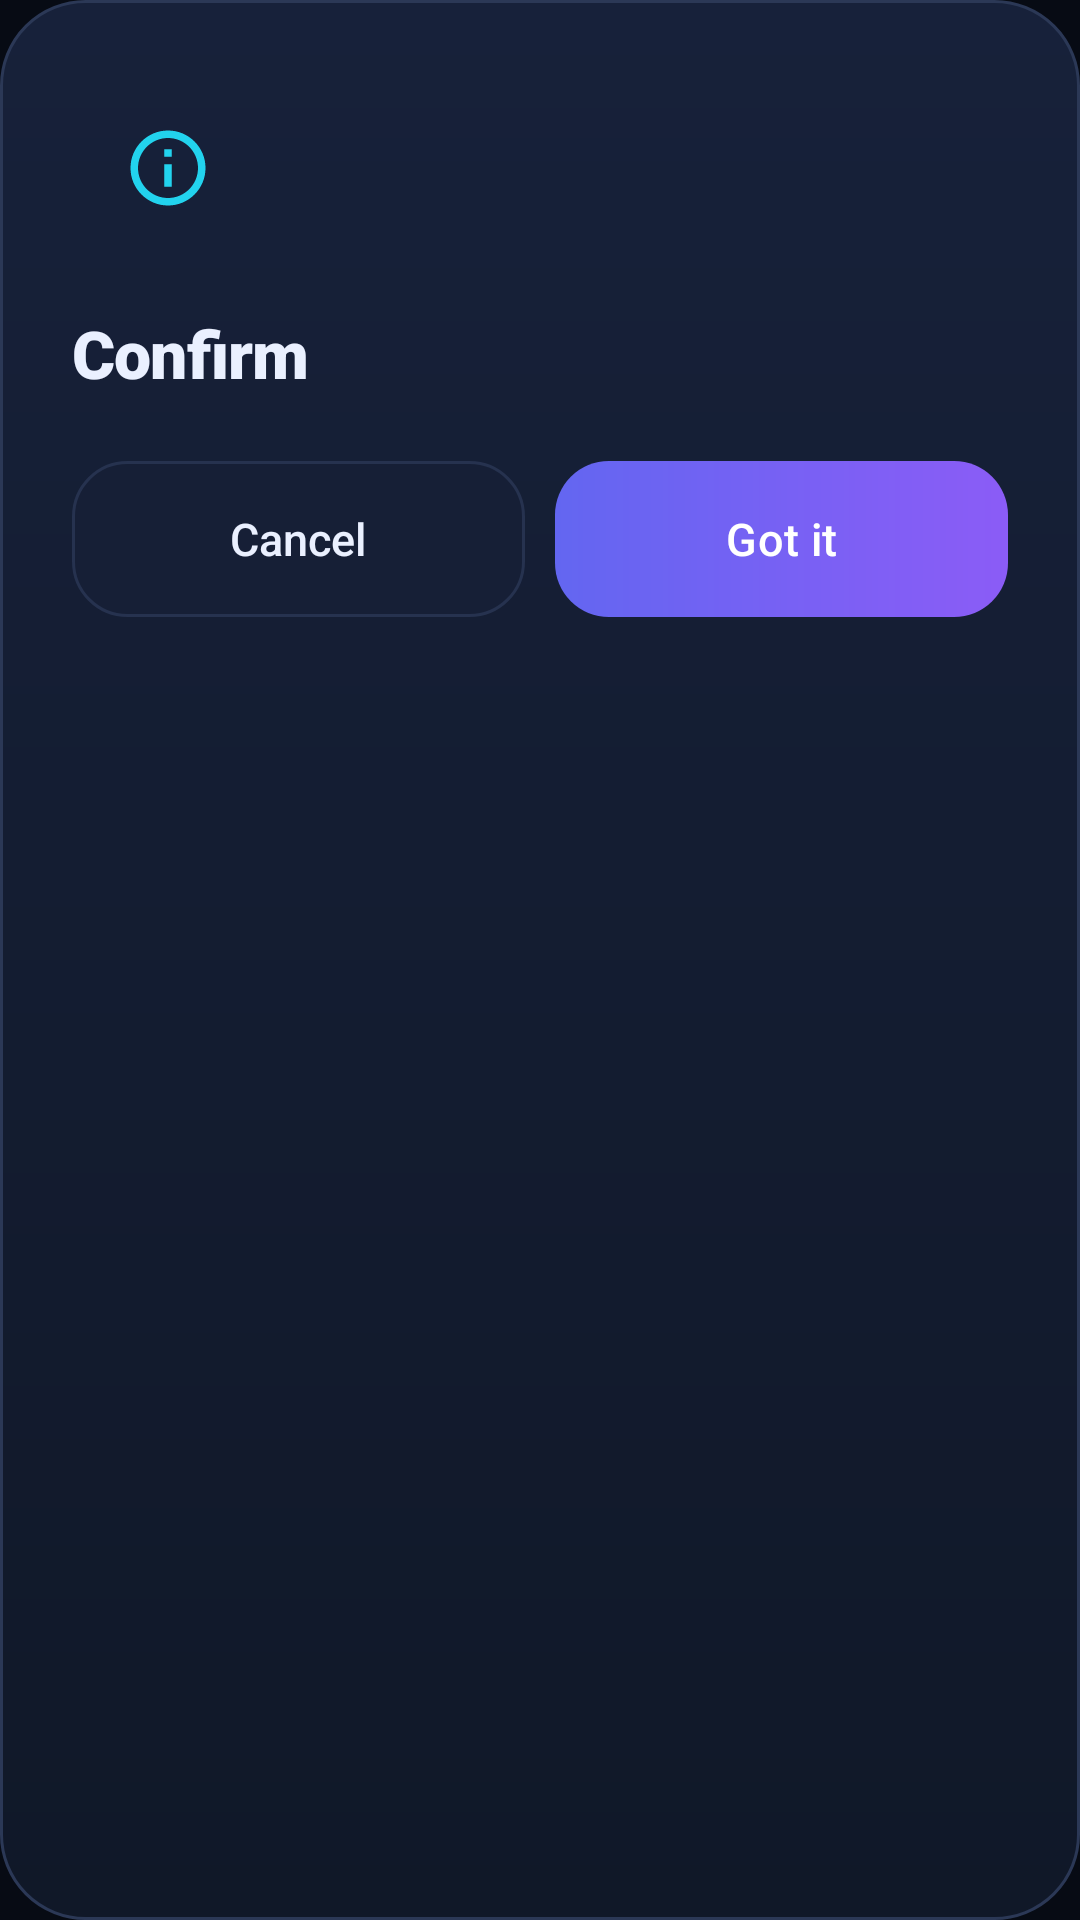

Screen size 1080 x 1920. Icon name, then its center in pixels as [x,y]:
info: [168,168]
